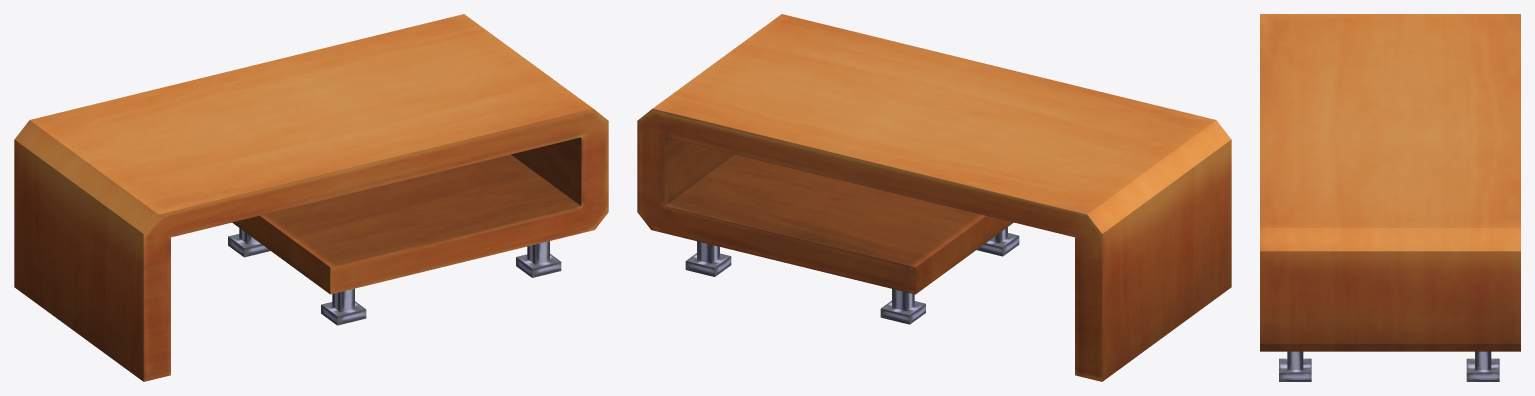
Rendered from teaTable02.DAE.
3 views of the same model, side by side, from view 1: azimuth 30°, elevation 25°; view 2: azimuth 150°, elevation 25°; view 3: azimuth 270°, elevation 25° (orthographic).
Parts seen in each view (by area): view 1: Tea_table_02-Pivot; view 2: Tea_table_02-Pivot; view 3: Tea_table_02-Pivot.
Part boxes in pixels (left/top/right/bottom): Tea_table_02-Pivot: left=14, top=14, right=608, bottom=381; Tea_table_02-Pivot: left=637, top=14, right=1231, bottom=381; Tea_table_02-Pivot: left=1260, top=14, right=1520, bottom=381.
Bounding box in the file's own units: 208 × 69.9 × 100.
Materials: 1 (1 with a texture image).
